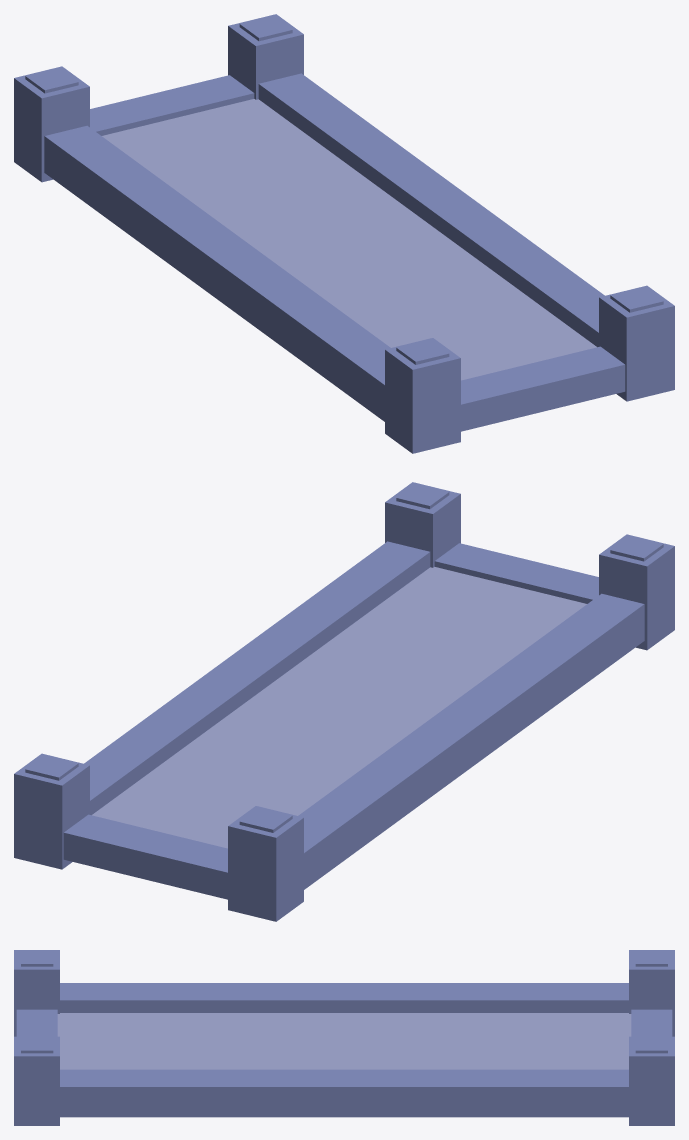
File: bridge_1c_1.fbx
3 renders of one model, top to bottom at view 1: azimuth 30°, elevation 25°; view 2: azimuth 150°, elevation 25°; view 3: azimuth 270°, elevation 25°, orthographic. The views are drawn at different scales.
Parts seen in each view (by area): view 1: bridge_1c_1; view 2: bridge_1c_1; view 3: bridge_1c_1.
Boxes of the visible parts, <box> form: bridge_1c_1: <box>14,14,674,453</box>; bridge_1c_1: <box>14,482,674,921</box>; bridge_1c_1: <box>14,950,674,1125</box>.
Bounding box in the file's own units: 9.8 × 3.12 × 25.8.
